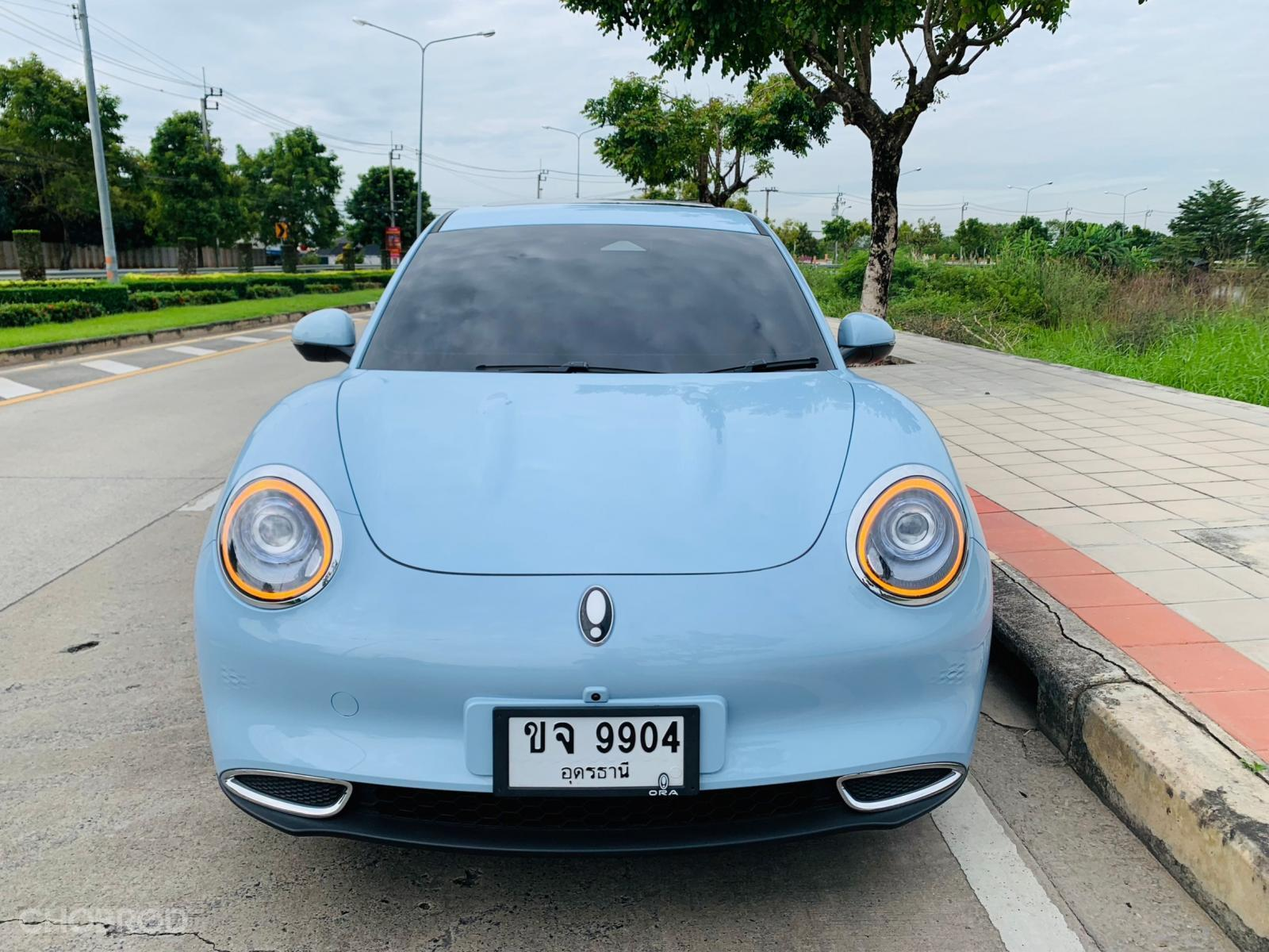license-plate: (496, 703, 697, 796)
